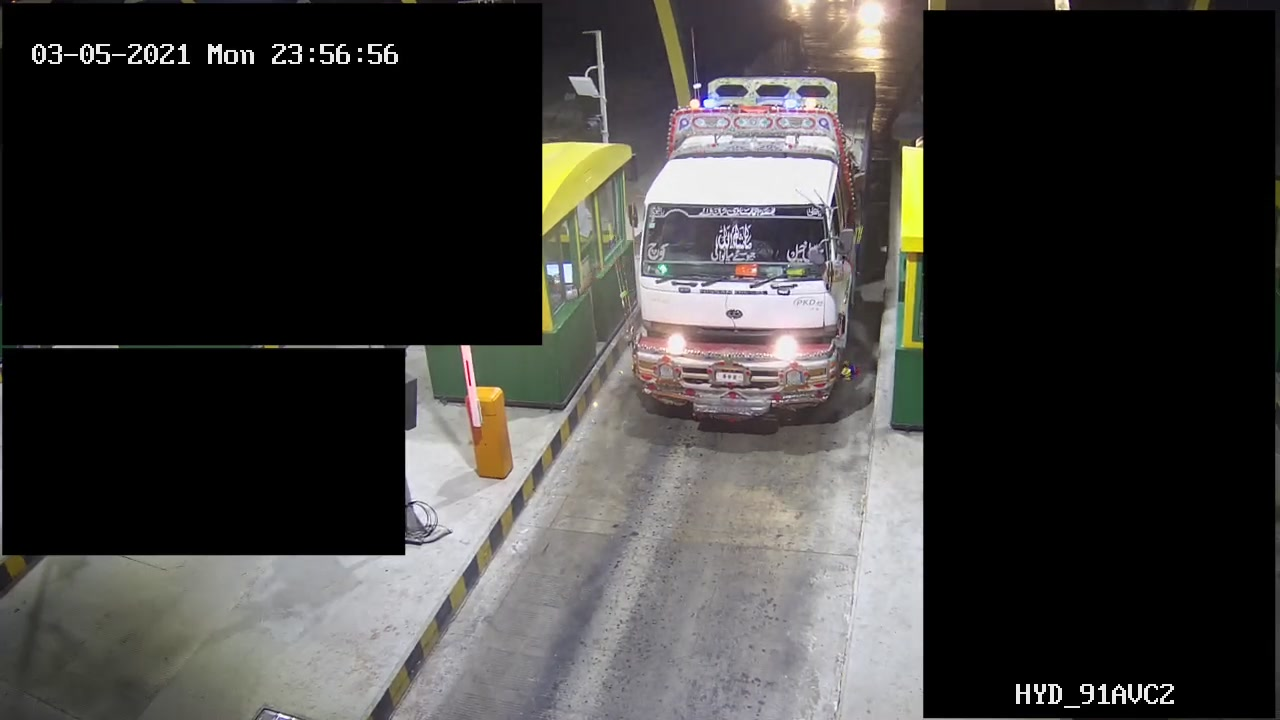F6: (618, 56, 884, 427)
